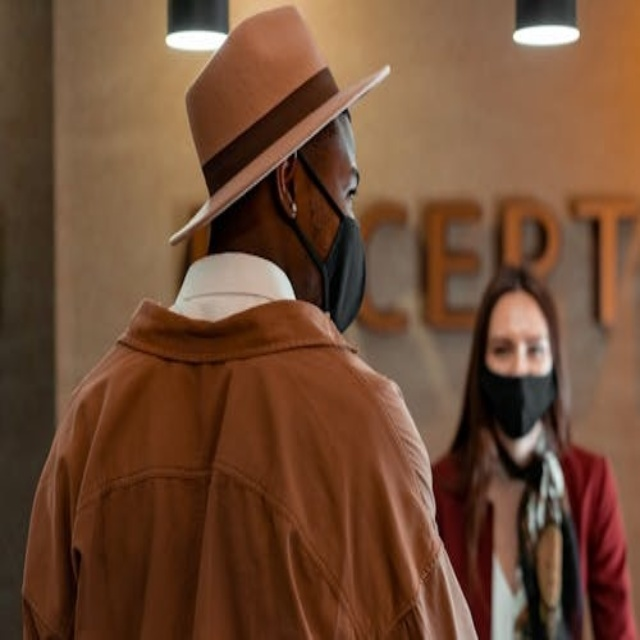Mascara: (288, 156, 367, 334), (478, 361, 555, 438)
Sin_gafas: (321, 146, 365, 213), (486, 337, 551, 365)
